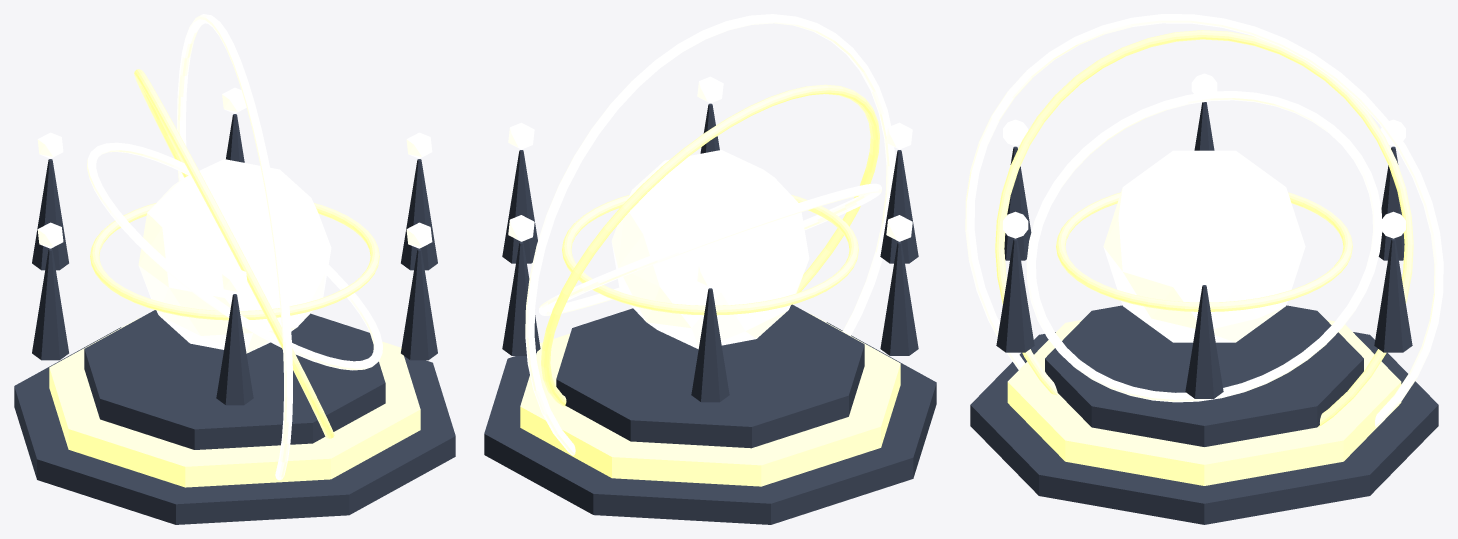
The model's file is gpu-blender-v41.glb.
The picture shows the model from 3 angles, left to right: view 1: azimuth 30°, elevation 25°; view 2: azimuth 150°, elevation 25°; view 3: azimuth 270°, elevation 25°; orthographic projection. The views are drawn at different scales.
Visible parts, largest first — view 1: Cylinder.002, Cylinder, SovereignCore_vector-search-engine, Cylinder.001, Torus.003, Torus.001, Torus.002, Torus, Cone.004, Cone.003, Cone.005, Cone.002 (+7 smaller); view 2: Cylinder.002, SovereignCore_vector-search-engine, Cylinder, Cylinder.001, Torus.003, Torus.002, Torus.001, Torus, Cone.002, Cone.003, Cone.001, Cone.004 (+7 smaller); view 3: SovereignCore_vector-search-engine, Cylinder.002, Cylinder, Cylinder.001, Torus.003, Torus.001, Torus.002, Torus, Cone.001, Cone.005, Cone, Cone.004 (+3 smaller).
Part boxes in pixels (x1=…): Cylinder.002: x1=84, y1=310, x2=385, y2=449; Cylinder: x1=14, y1=327, x2=455, y2=524; SovereignCore_vector-search-engine: x1=138, y1=159, x2=331, y2=353; Cylinder.001: x1=49, y1=318, x2=420, y2=487; Torus.003: x1=177, y1=14, x2=292, y2=480; Torus.001: x1=87, y1=142, x2=382, y2=370; Torus.002: x1=134, y1=69, x2=334, y2=438; Torus: x1=90, y1=203, x2=379, y2=320; Cone.004: x1=216, y1=294, x2=253, y2=405; Cone.003: x1=32, y1=249, x2=68, y2=360; Cone.005: x1=401, y1=249, x2=437, y2=360; Cone.002: x1=32, y1=159, x2=68, y2=270; Cylinder.002: x1=556, y1=304, x2=864, y2=448; SovereignCore_vector-search-engine: x1=611, y1=150, x2=809, y2=349; Cylinder: x1=484, y1=322, x2=936, y2=524; Cylinder.001: x1=520, y1=313, x2=900, y2=486; Torus.003: x1=525, y1=14, x2=895, y2=455; Torus.002: x1=541, y1=84, x2=879, y2=406; Torus.001: x1=539, y1=183, x2=881, y2=315; Torus: x1=562, y1=195, x2=858, y2=315; Cone.002: x1=691, y1=288, x2=729, y2=402; Cone.003: x1=880, y1=242, x2=918, y2=355; Cone.001: x1=502, y1=242, x2=540, y2=355; Cone.004: x1=880, y1=150, x2=918, y2=263; SovereignCore_vector-search-engine: x1=1103, y1=150, x2=1305, y2=342; Cylinder.002: x1=1045, y1=305, x2=1363, y2=446; Cylinder: x1=970, y1=332, x2=1438, y2=524; Cylinder.001: x1=1007, y1=320, x2=1401, y2=485; Torus.003: x1=965, y1=14, x2=1443, y2=427; Torus.001: x1=1026, y1=91, x2=1382, y2=402; Torus.002: x1=995, y1=30, x2=1413, y2=426; Torus: x1=1056, y1=192, x2=1352, y2=311; Cone.001: x1=1374, y1=239, x2=1412, y2=352; Cone.005: x1=996, y1=239, x2=1034, y2=352; Cone: x1=1185, y1=285, x2=1223, y2=398; Cone.004: x1=1004, y1=146, x2=1031, y2=260.
Bounding box in the file's own units: 4.41 × 4.7 × 4.49.
